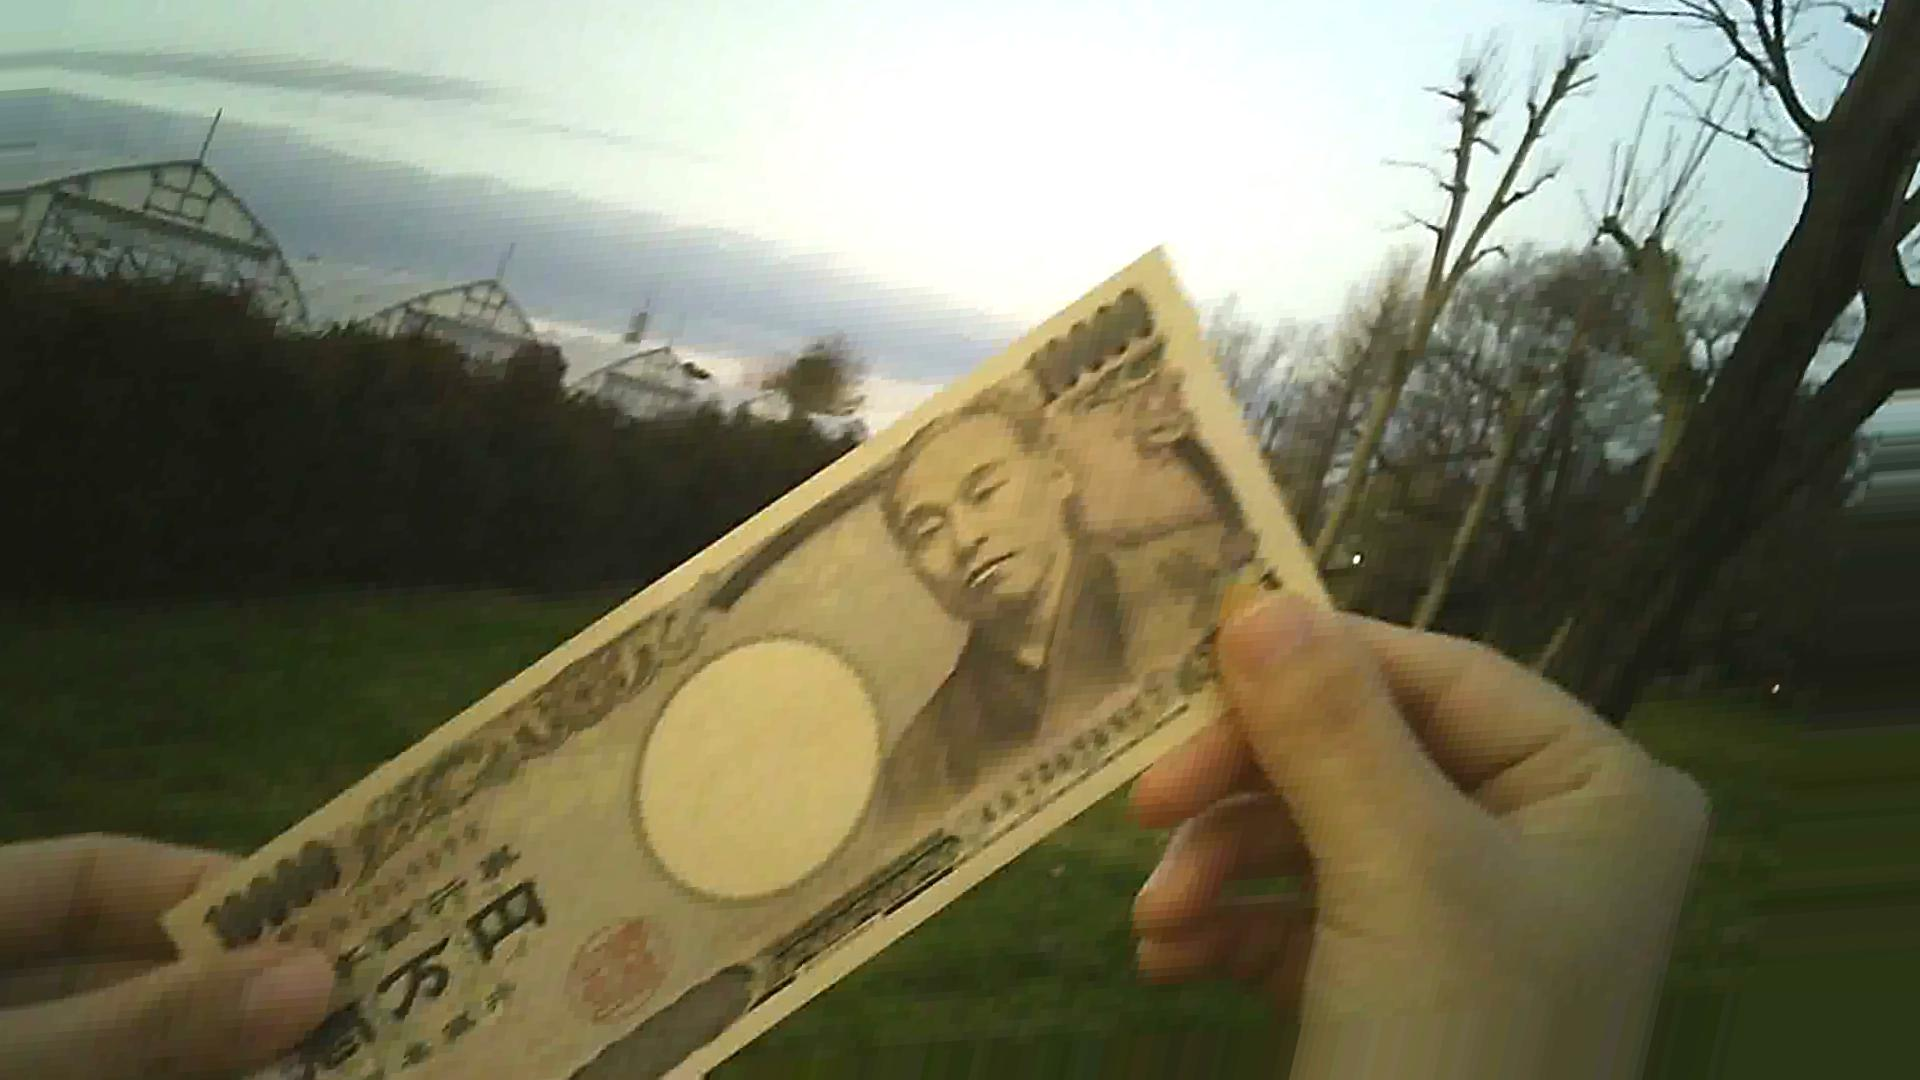10,000 Yen: (160, 253, 1304, 1030)
